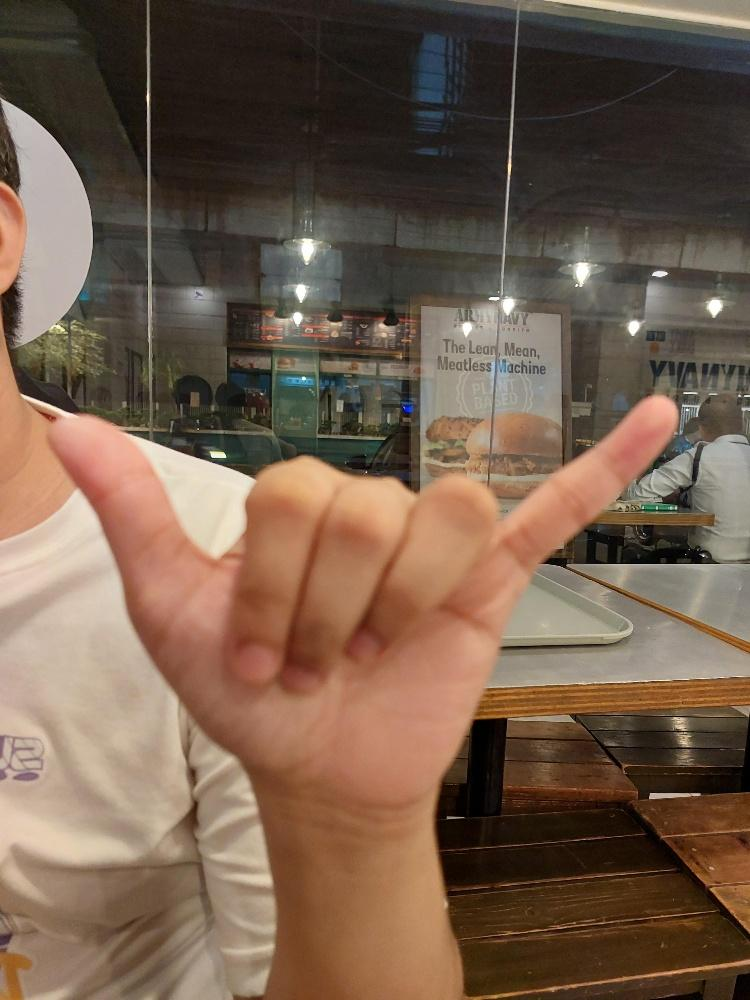y: (43, 390, 680, 811)
